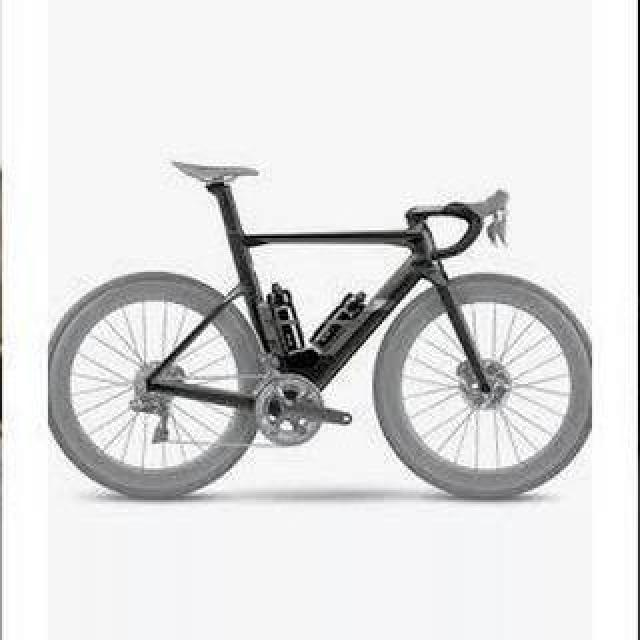Person: (44, 160, 594, 498)
